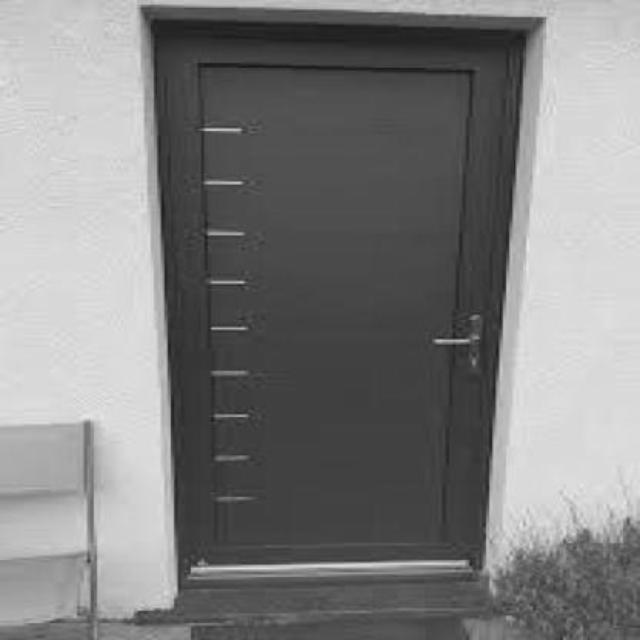Door: (152, 20, 525, 585)
